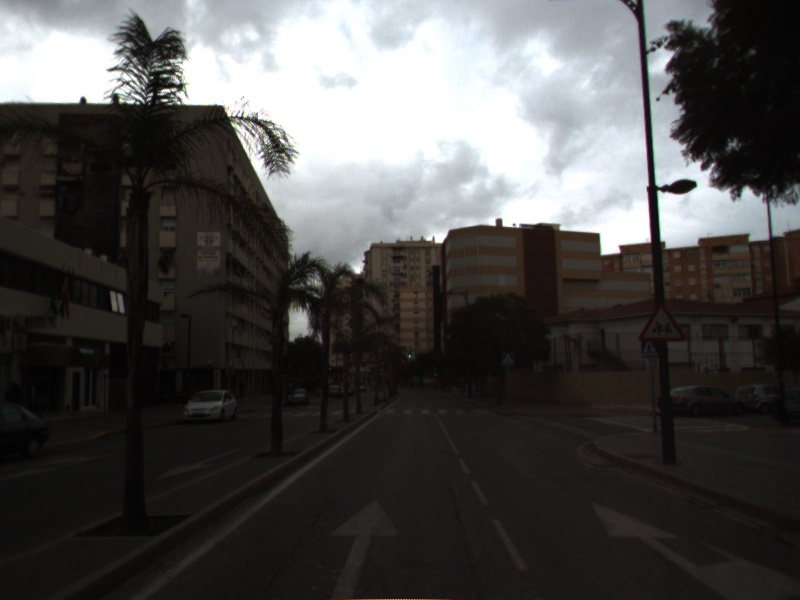STRAIGHT: (327, 498, 401, 600)
STRAIGHT_RIGHT: (587, 498, 800, 600)
